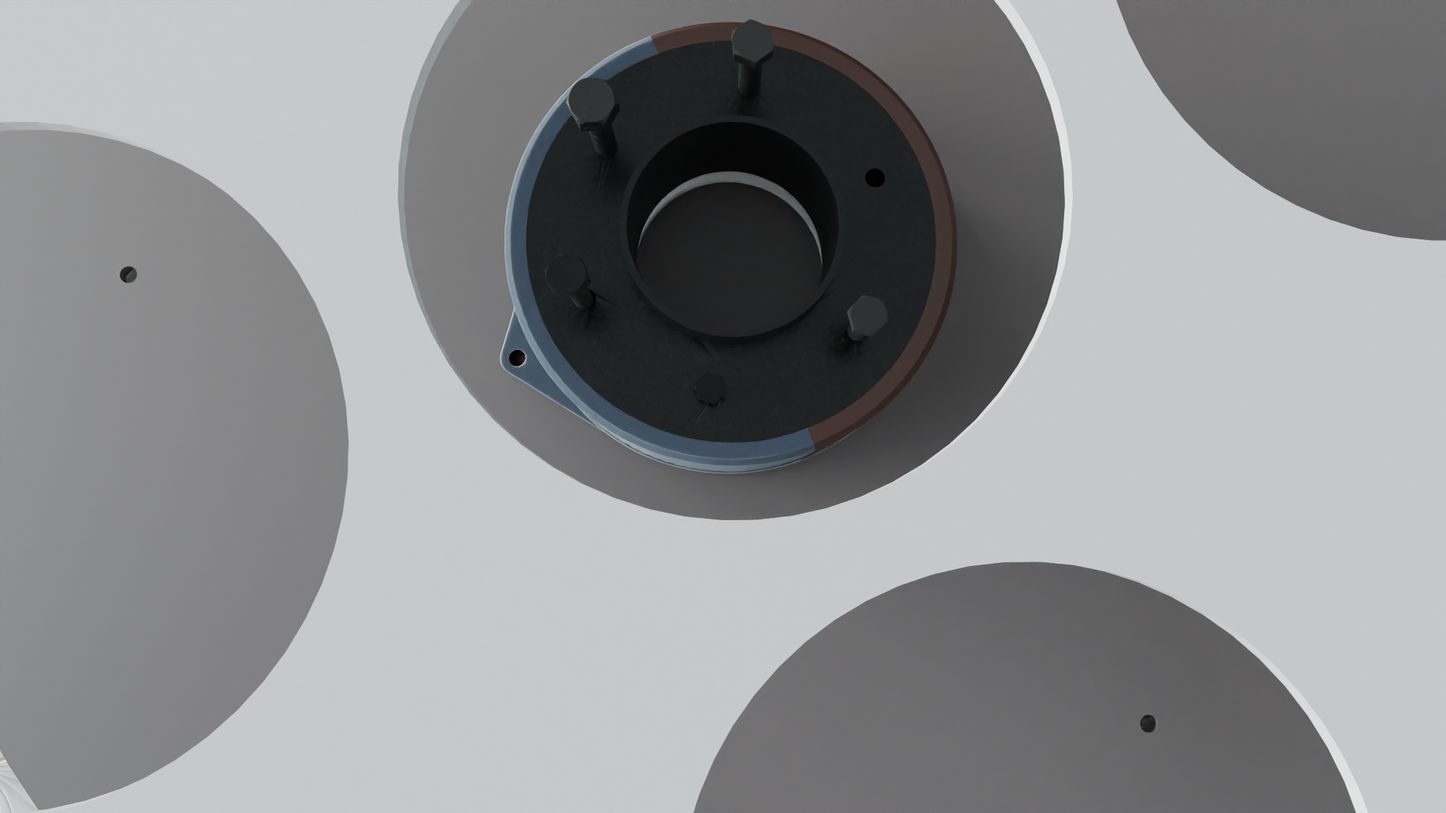bolt: (566, 78, 618, 124), (731, 19, 774, 62), (545, 254, 589, 296), (849, 295, 889, 335), (694, 372, 726, 403)
